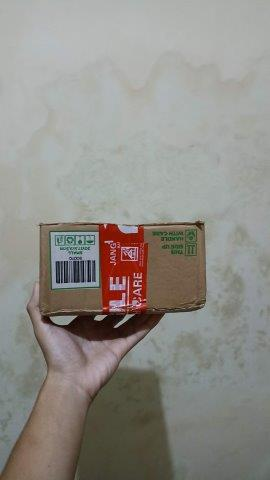kardus: (40, 223, 206, 310)
